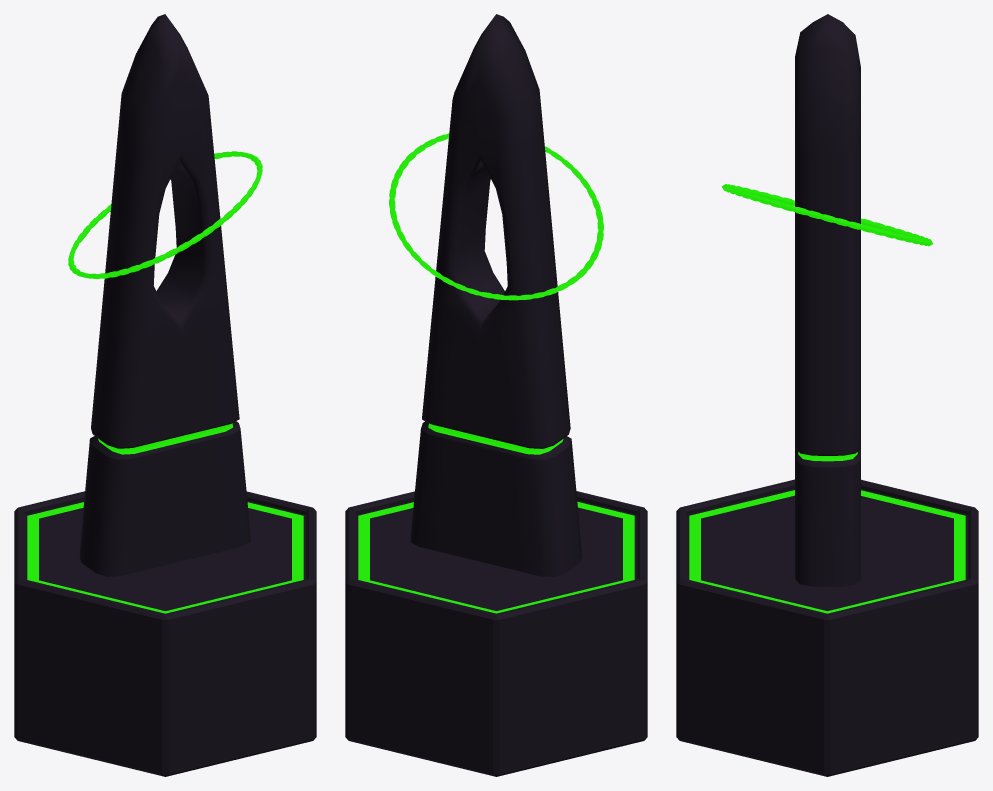
File: skyscraper.fbx
3 views of the same model, side by side, from view 1: azimuth 30°, elevation 25°; view 2: azimuth 150°, elevation 25°; view 3: azimuth 270°, elevation 25° (orthographic).
Parts seen in each view (by area): view 1: BASE BLOCK, ph_living; view 2: BASE BLOCK, ph_living; view 3: BASE BLOCK, ph_living.
Part boxes in pixels (<box>): BASE BLOCK: <box>14,491,316,776</box>; ph_living: <box>68,14,262,576</box>; BASE BLOCK: <box>345,491,647,776</box>; ph_living: <box>389,14,603,577</box>; BASE BLOCK: <box>676,479,978,776</box>; ph_living: <box>721,14,933,586</box>.
Bounding box in the file's own units: 23830 × 52540 × 20850.
